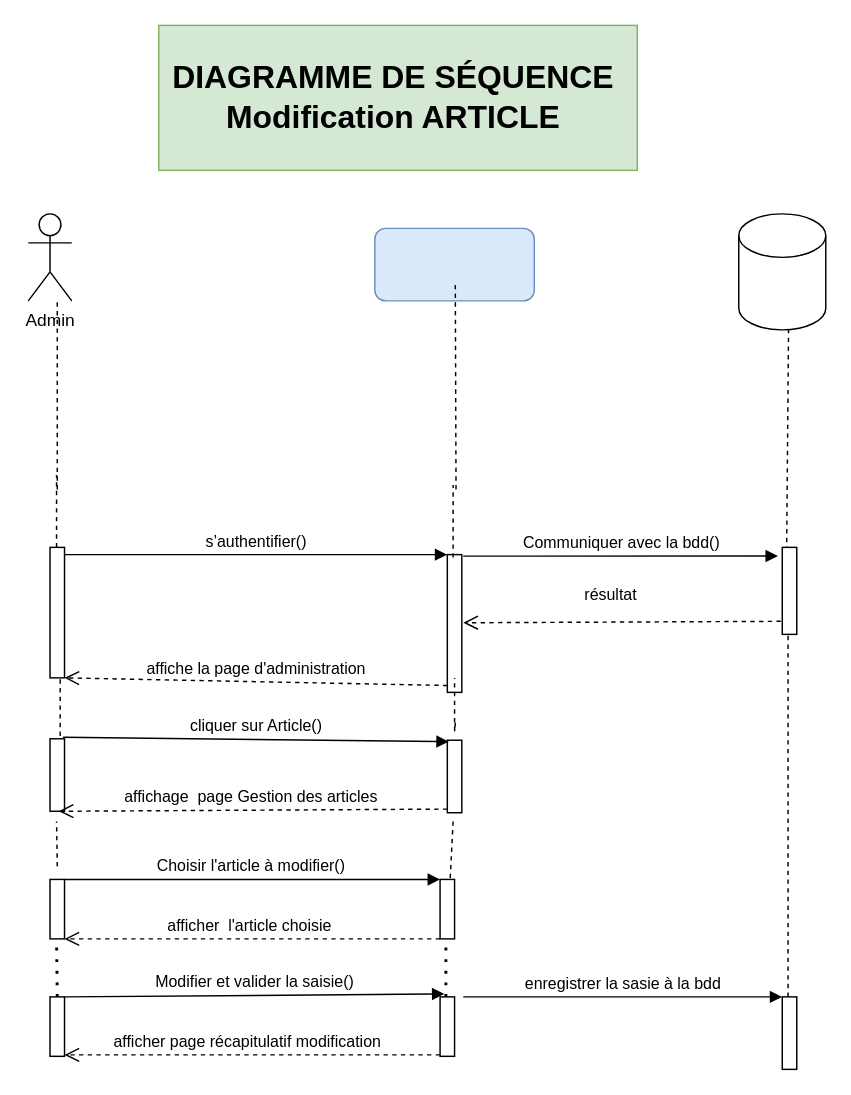
Image size: 851x1095. Some labels were removed from this diagram. Here are the shapes that lost their labels. From the top down, the box of each, then its label:
(373, 227, 534, 301): systeme
(737, 212, 826, 330): BDD
